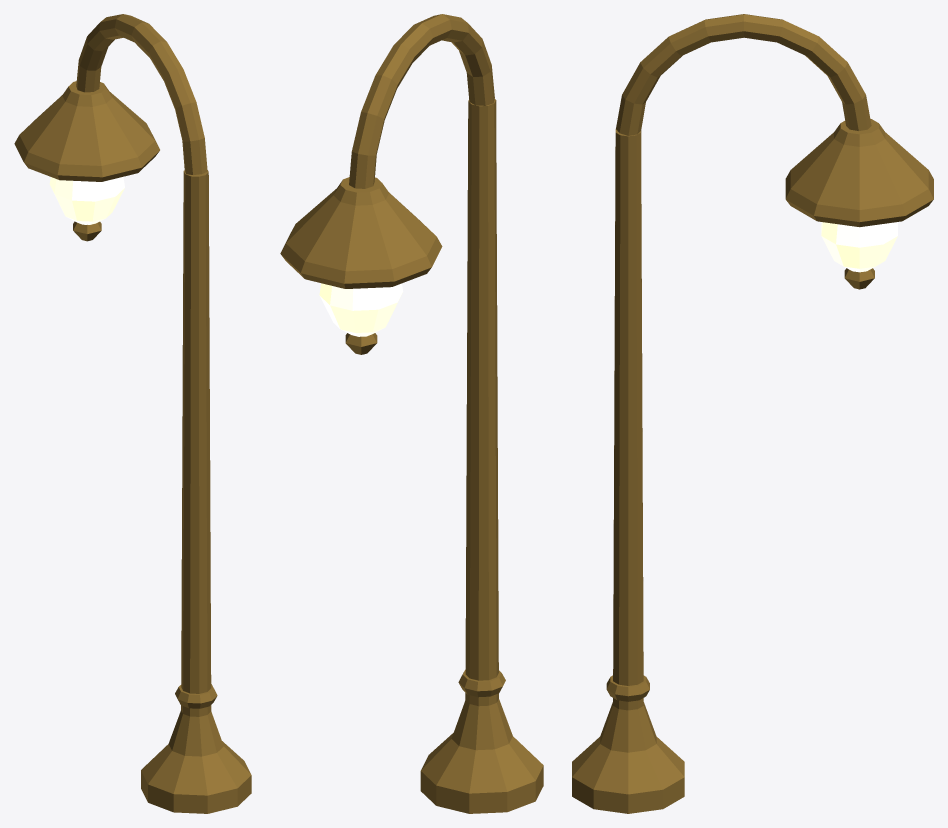
The model's file is SM_StreetLamp_L2.glb.
3 views of the same model, side by side, from view 1: azimuth 30°, elevation 25°; view 2: azimuth 150°, elevation 25°; view 3: azimuth 270°, elevation 25° (orthographic). The views are drawn at different scales.
Visible parts, largest first — view 1: SM_StreetLamp, SM_LampHead; view 2: SM_StreetLamp, SM_LampHead; view 3: SM_StreetLamp, SM_LampHead.
Part boxes in pixels (<box>): SM_StreetLamp: <box>14,14,251,813</box>; SM_LampHead: <box>49,177,124,224</box>; SM_StreetLamp: <box>280,14,543,813</box>; SM_LampHead: <box>319,283,403,336</box>; SM_StreetLamp: <box>572,14,933,813</box>; SM_LampHead: <box>821,222,897,272</box>.
Bounding box in the file's own units: 0.58 × 3.18 × 1.35.
